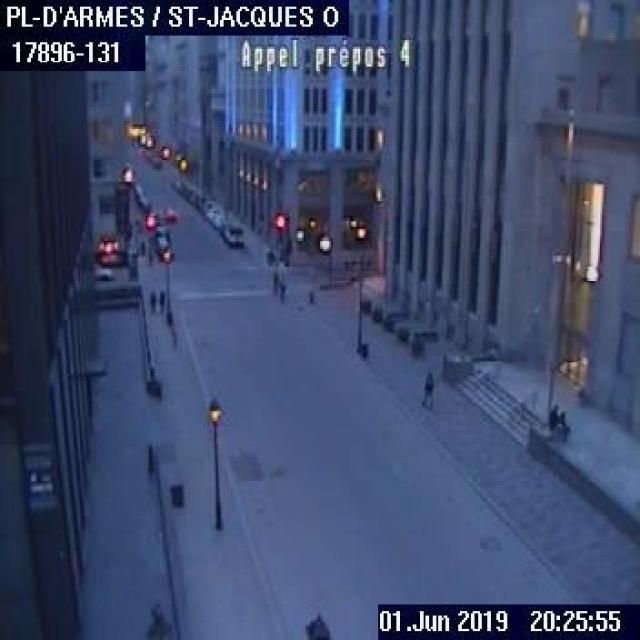pedestrian: (420, 368, 434, 406), (547, 400, 558, 427), (558, 408, 568, 430), (278, 272, 285, 302), (270, 266, 278, 292), (148, 288, 155, 312), (157, 288, 163, 310), (147, 247, 151, 264), (140, 238, 144, 254)
vehicle: (222, 224, 242, 246), (218, 216, 232, 235), (162, 205, 176, 220)
